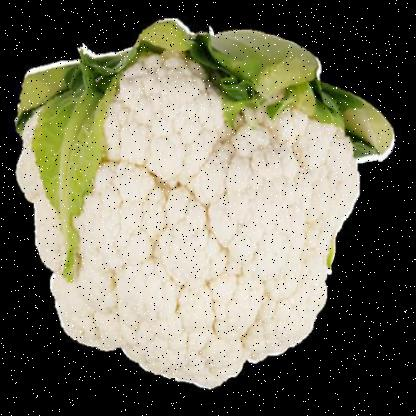cauliflower: (29, 42, 375, 386)
